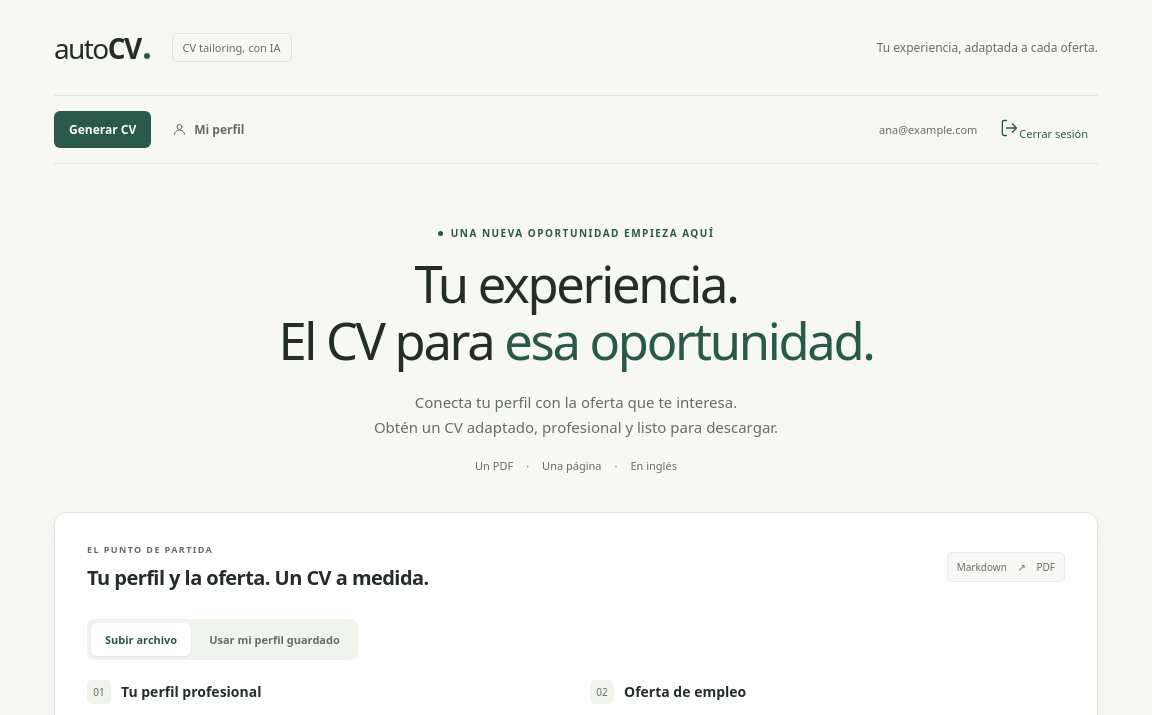
Scenario: App › shows the generation form and lets a signed-in user switch to their profile and back
expect the text "ana@example.com" is shown: met, box [879,122,977,137]
Click the button "Mi perfil" at (208, 130), box [157,111,259,148]
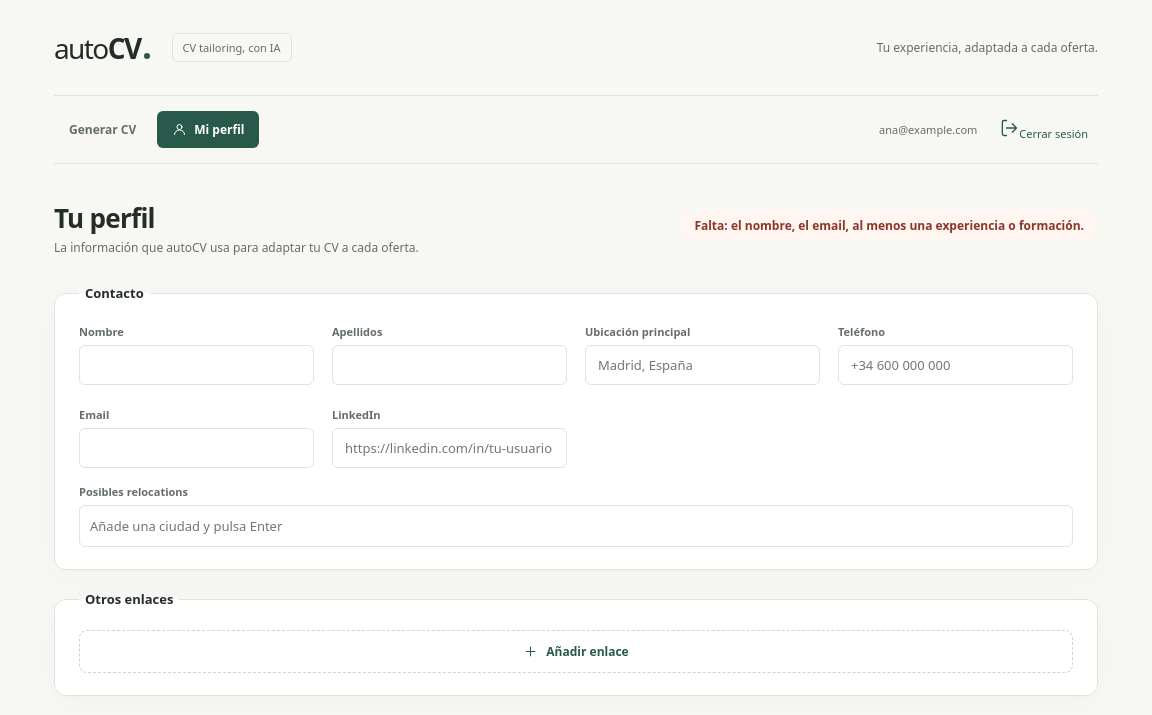
expect the heading "Tu perfil" is shown: met, box [54,200,155,236]
Click the button "Generar CV" at (103, 130), box [54,111,151,148]
(page scrolled)
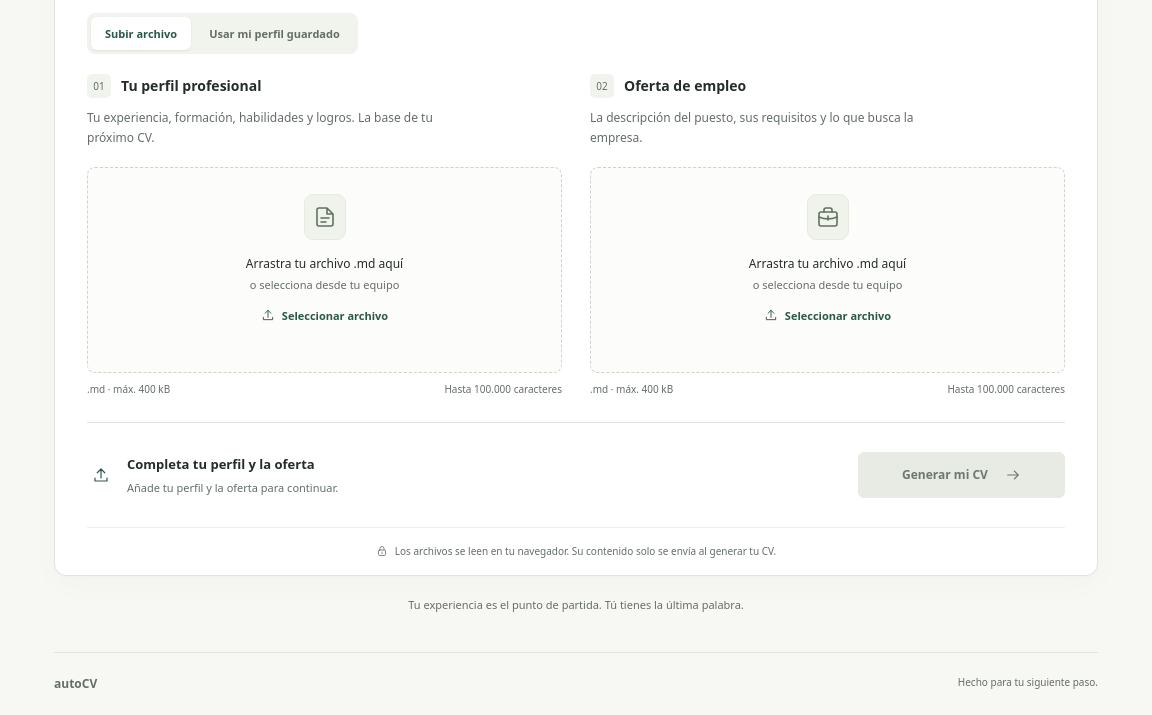
expect the button "Generar mi CV" is shown: met, box [858,452,1065,498]
